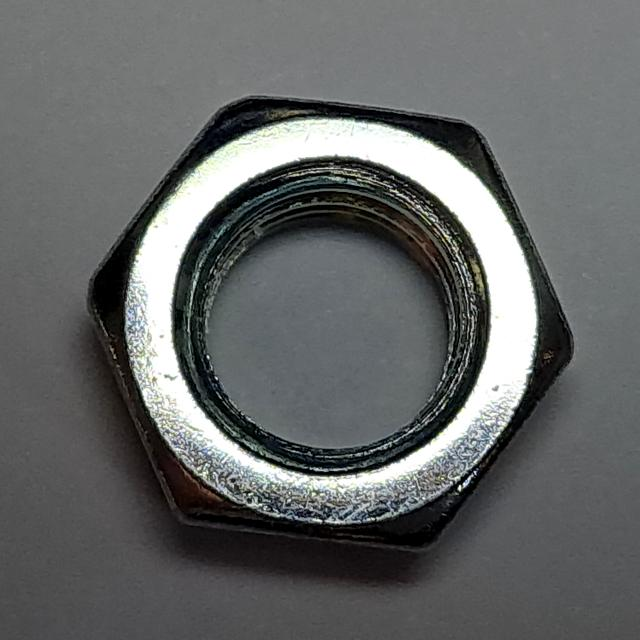Excellent: (70, 81, 592, 562)
